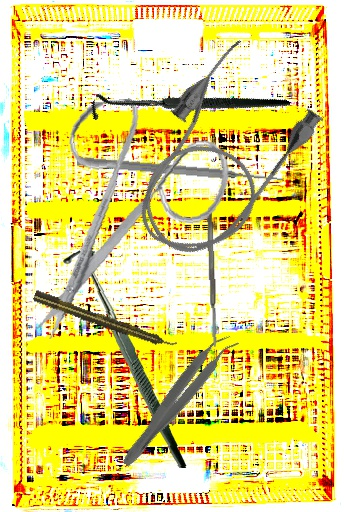Cannula: (104, 31, 334, 280)
Handpiece: (32, 288, 178, 354)
Hook Surgical: (86, 20, 291, 197), (51, 249, 199, 469)
Iris Scissors: (5, 87, 248, 341)
Pusher: (76, 155, 284, 186)
Spatula Surgical: (206, 210, 218, 349)
Tissue Forceps: (116, 327, 241, 475)
